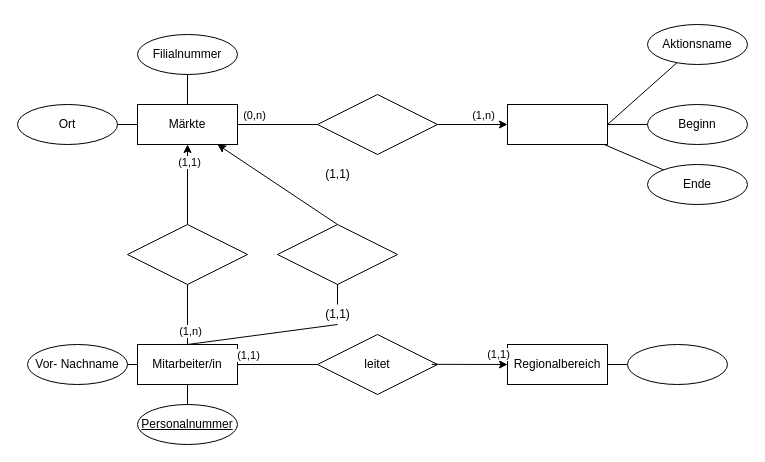
The diagram is 765 pixels wide and 462 high, and some of its shapes have lost their labels. The shapes that lost their labels are listed below. From the top down, each one's centre as x and y in pixels, then its label:
At (377,124): "entscheidet".
At (557,124): "Werbeaktionen".
At (187,254): "Arbeitet".
At (337,254): "Marktleitung".
At (677,364): "Bereichsname".
